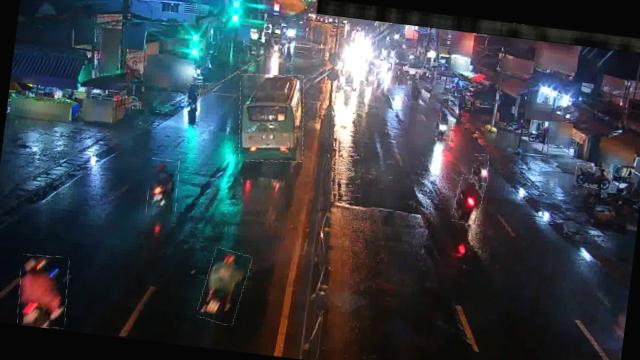Bike: (14, 253, 71, 329), (198, 246, 250, 325), (144, 159, 180, 216), (452, 176, 486, 226), (573, 163, 612, 189), (470, 154, 489, 185), (437, 110, 454, 144), (183, 82, 200, 112)
Bus: (232, 69, 310, 166)
